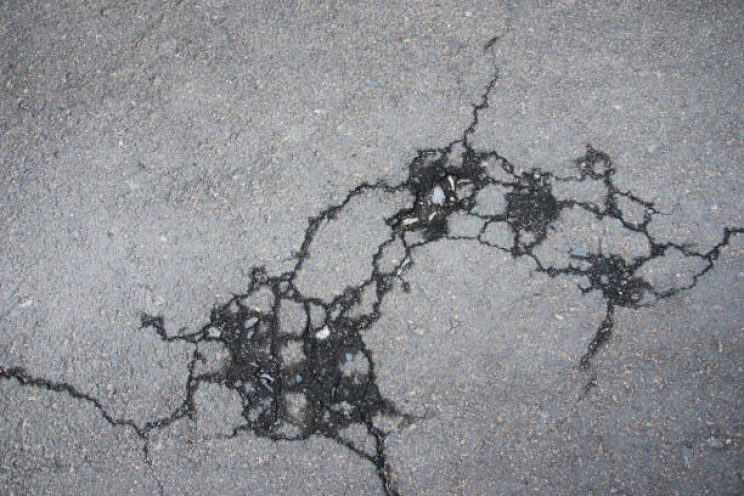Retak Buaya: (137, 272, 419, 491), (514, 149, 744, 397), (270, 125, 548, 284), (1, 357, 185, 446), (442, 57, 505, 152)
